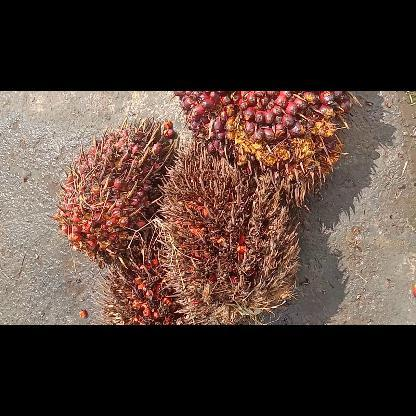TBS masak: (174, 90, 361, 208), (53, 114, 173, 268)
Terlalu masak: (154, 139, 300, 324), (89, 248, 181, 324)
